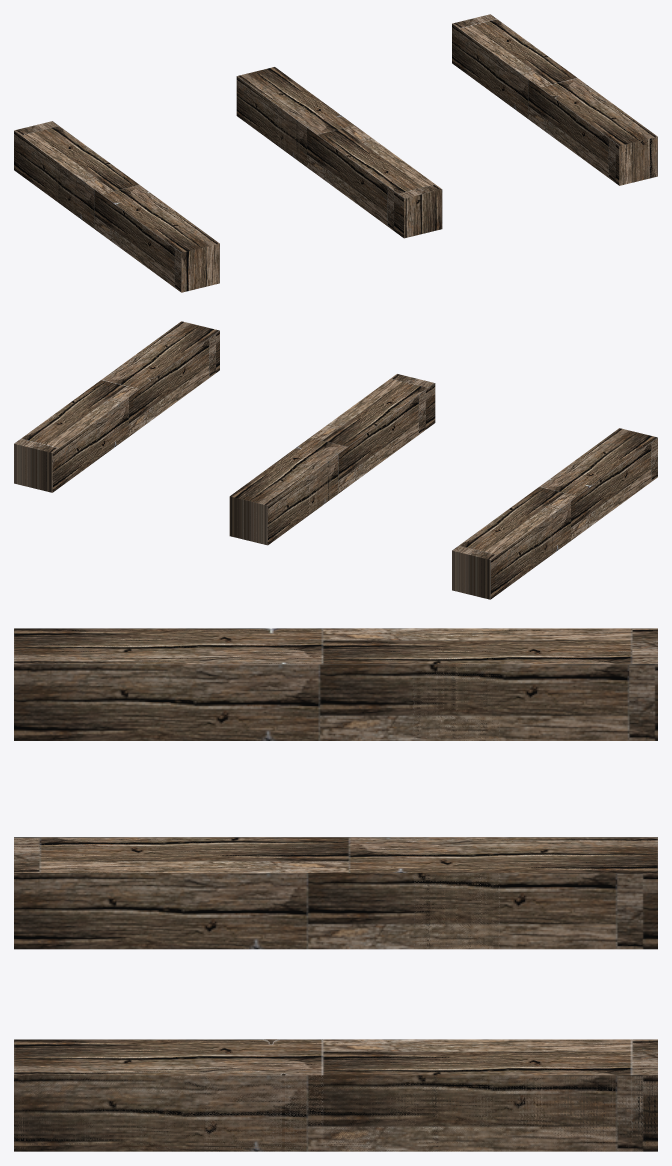
File: potol.dae
3 views of the same model, one above another, from view 1: azimuth 30°, elevation 25°; view 2: azimuth 150°, elevation 25°; view 3: azimuth 270°, elevation 25° (orthographic). The views are drawn at different scales.
Parts seen in each view (by area): view 1: SketchUp (×3); view 2: SketchUp (×3); view 3: SketchUp (×3).
Part boxes in pixels (x1,y1,x2,y2): SketchUp (×3): (14,14,657,292); SketchUp (×3): (14,321,657,599); SketchUp (×3): (14,628,657,1151).
Size of the model in its own units: 98.01 by 59.66 by 7.81.
